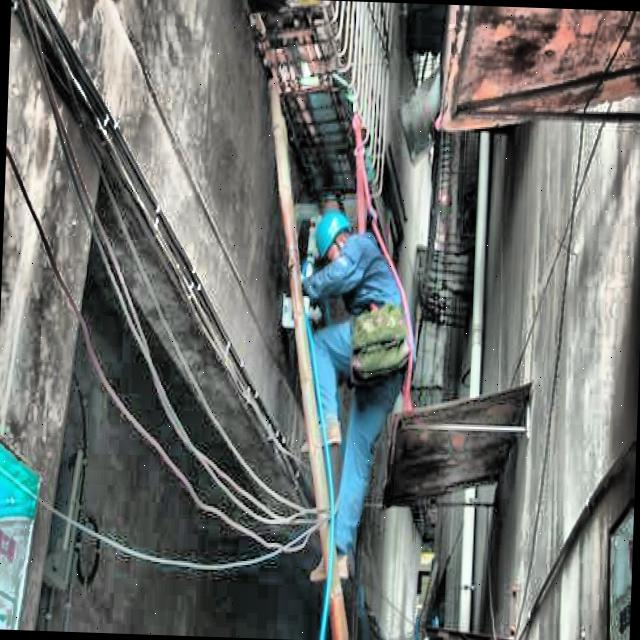helmet: (308, 208, 361, 264)
